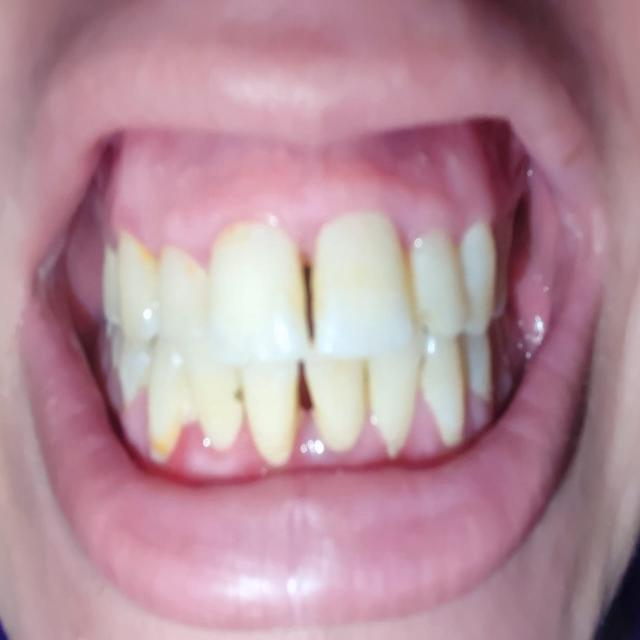tooth: (209, 241, 305, 359), (313, 238, 417, 344), (240, 364, 298, 467), (431, 329, 469, 452), (185, 354, 241, 437), (305, 364, 365, 441), (419, 236, 467, 329), (158, 258, 202, 336), (118, 244, 154, 333), (375, 352, 411, 441), (152, 343, 182, 445), (468, 234, 496, 318), (473, 336, 497, 404), (124, 338, 144, 404)
